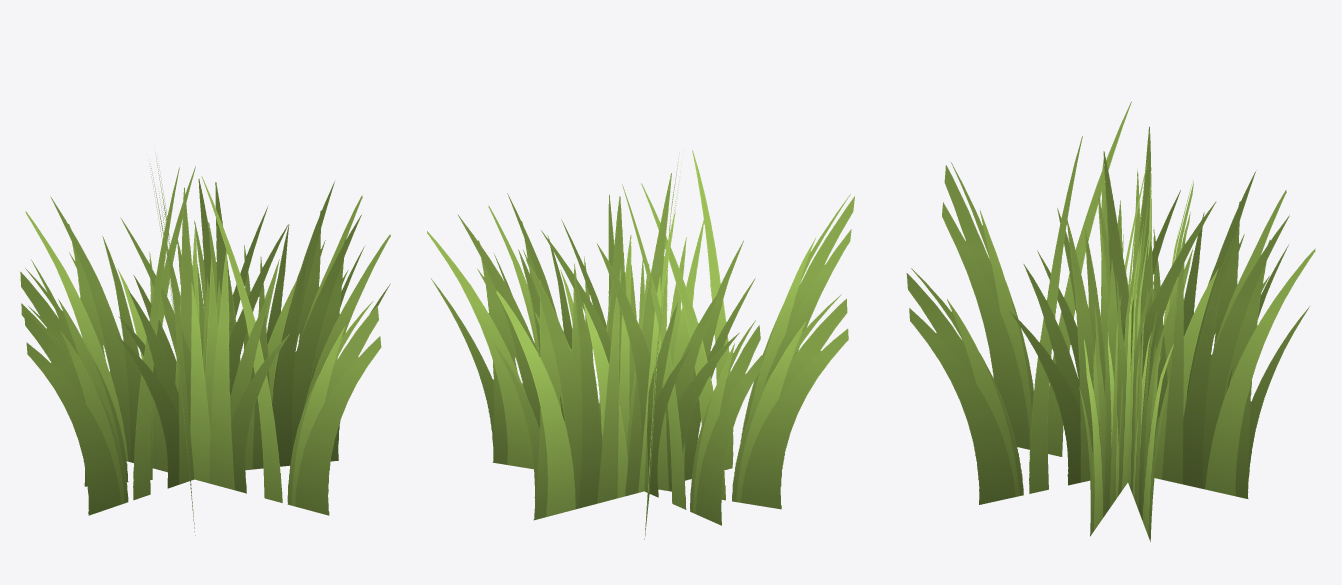
The model's file is tall_grass_1_mid.glb.
3 views of the same model, side by side, from view 1: azimuth 30°, elevation 25°; view 2: azimuth 150°, elevation 25°; view 3: azimuth 270°, elevation 25° (orthographic). The views are drawn at different scales.
Visible parts, largest first — view 1: tall_grass_1_mid; view 2: tall_grass_1_mid; view 3: tall_grass_1_mid.
Boxes of the visible parts, box(x1,y1,x2,y2) form: tall_grass_1_mid: box(20, 155, 390, 535); tall_grass_1_mid: box(427, 150, 854, 539); tall_grass_1_mid: box(906, 101, 1315, 541).
Size of the model in its own units: 0.9375 by 0.9163 by 0.9052.
Materials: 1 (1 with a texture image).
